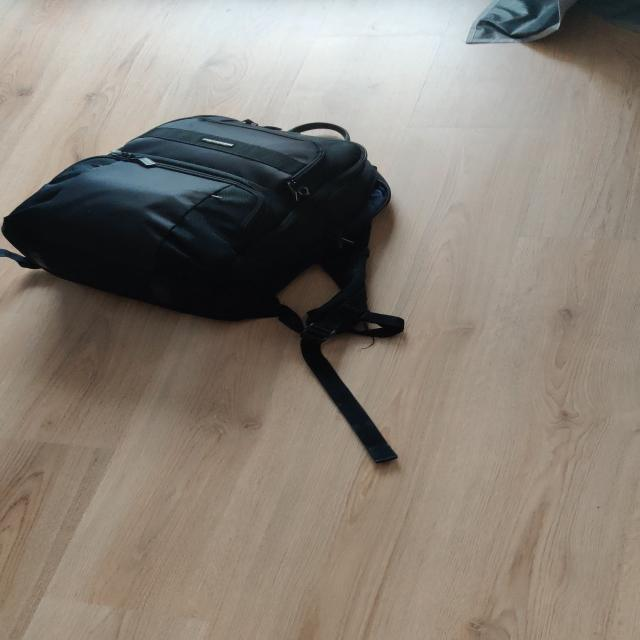backpack: (0, 108, 405, 330)
